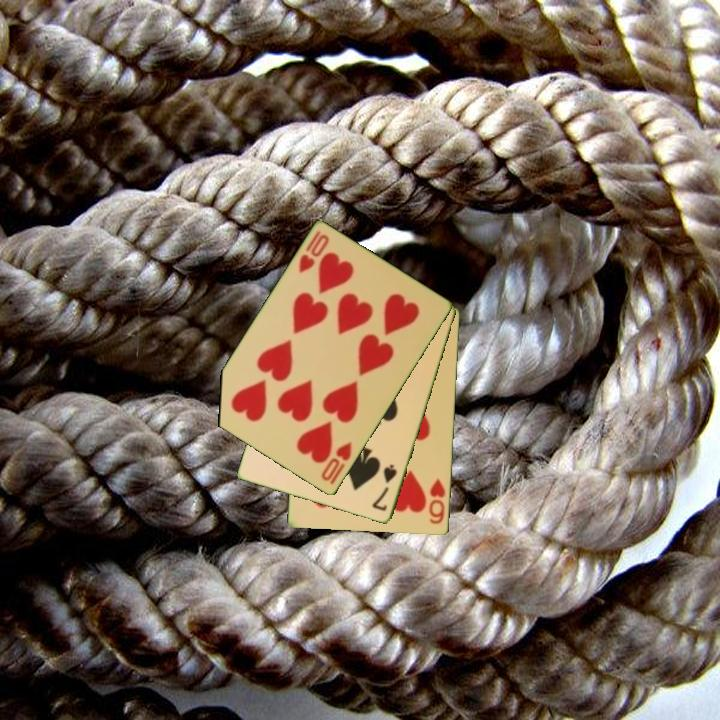10h: (317, 438, 355, 488), (295, 227, 332, 276)
6h: (426, 475, 449, 527)
7s: (369, 461, 400, 514)
